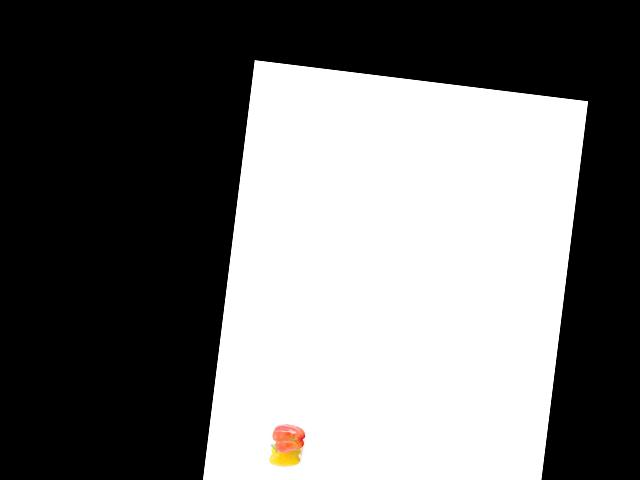bell_pepper: (269, 440, 304, 469)
